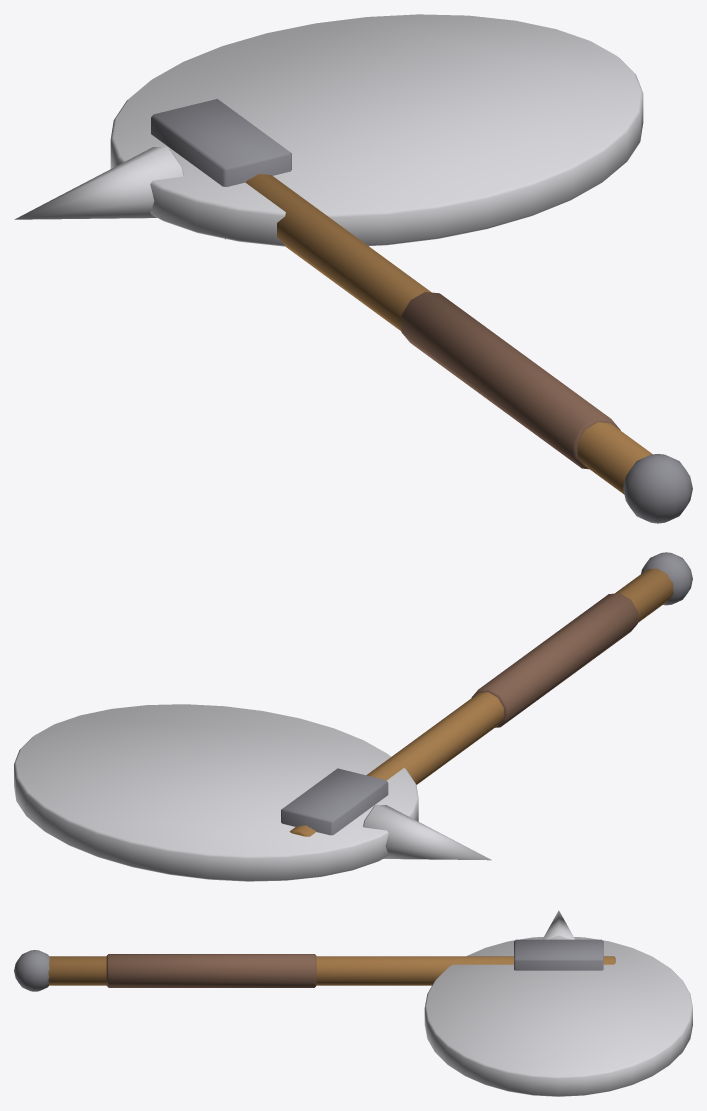
The model's file is weapons_axe.glb.
The picture shows the model from 3 angles, top to bottom: view 1: azimuth 30°, elevation 25°; view 2: azimuth 150°, elevation 25°; view 3: azimuth 270°, elevation 25°; orthographic projection. The views are drawn at different scales.
Parts seen in each view (by area): view 1: weapons_axe; view 2: weapons_axe; view 3: weapons_axe.
Boxes of the visible parts, x1,y1,x2,y2 form: weapons_axe: (14, 14, 692, 523); weapons_axe: (14, 552, 692, 881); weapons_axe: (14, 910, 692, 1096).
Bounding box in the file's own units: 0.7 × 0.08 × 1.13.
